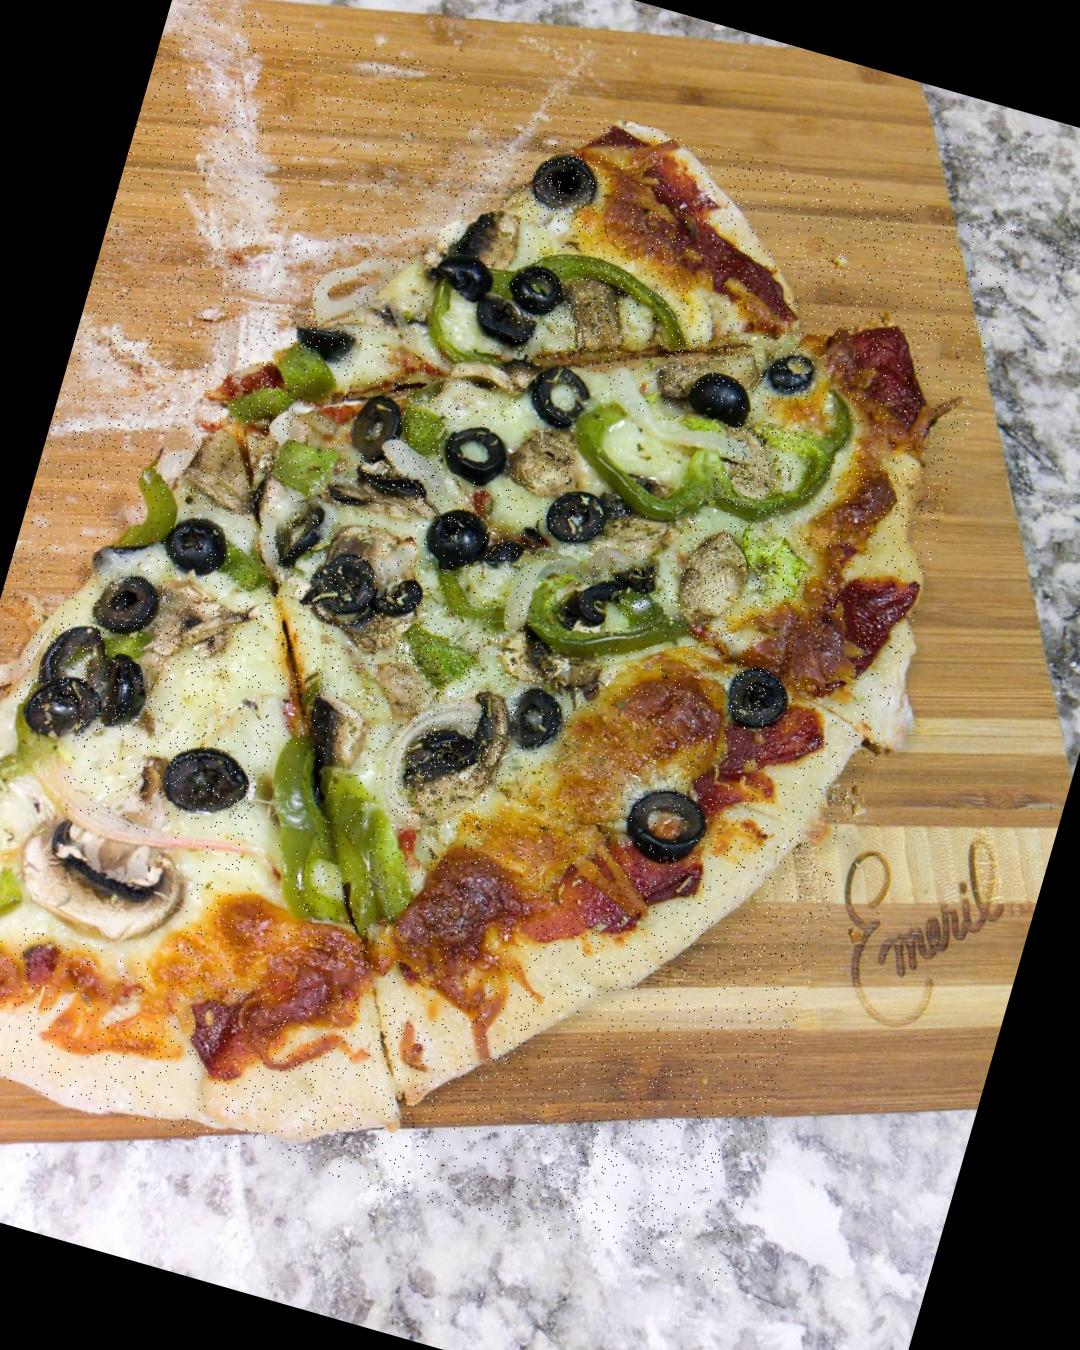Mushroom: (2, 801, 204, 969), (387, 671, 525, 841), (660, 510, 771, 644), (144, 581, 264, 689), (180, 422, 290, 527), (658, 318, 775, 413), (712, 415, 808, 519), (550, 264, 645, 361), (450, 197, 532, 284), (352, 449, 443, 508), (273, 505, 332, 573), (326, 471, 389, 518)
Olives: (310, 540, 438, 649), (607, 768, 721, 878), (156, 728, 269, 824), (516, 138, 617, 234), (150, 501, 244, 597), (11, 662, 112, 750), (566, 552, 660, 641), (87, 640, 168, 741), (418, 496, 510, 583), (674, 358, 770, 440), (35, 616, 125, 701), (518, 356, 602, 439), (721, 659, 802, 739), (87, 562, 168, 640), (538, 479, 617, 557), (341, 384, 414, 465), (443, 418, 521, 488), (504, 683, 570, 765), (423, 241, 503, 309), (497, 252, 571, 324), (261, 497, 335, 569), (467, 290, 544, 355), (759, 342, 825, 410), (291, 313, 364, 374), (478, 525, 537, 576), (593, 477, 638, 523)
Peppers: (228, 741, 377, 933), (294, 767, 453, 943), (503, 229, 706, 347), (566, 401, 733, 533), (0, 696, 79, 946), (525, 576, 691, 685), (706, 414, 844, 539), (415, 278, 523, 379), (726, 518, 817, 623), (388, 615, 488, 703), (112, 458, 192, 566), (421, 563, 521, 641), (212, 523, 298, 608), (218, 369, 309, 447), (264, 341, 355, 417), (389, 390, 464, 475), (263, 428, 347, 501), (810, 375, 870, 467), (618, 586, 673, 638), (104, 620, 158, 667)
Pizza: (0, 0, 1025, 1290)
